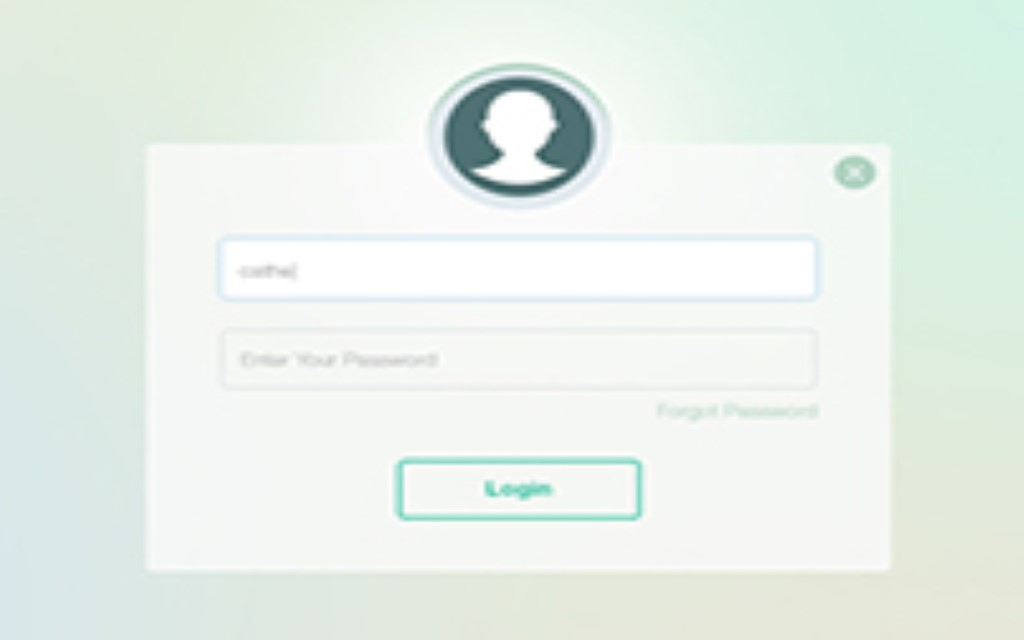button: (398, 457, 639, 520)
textbox: (219, 236, 819, 302), (217, 326, 818, 388)
